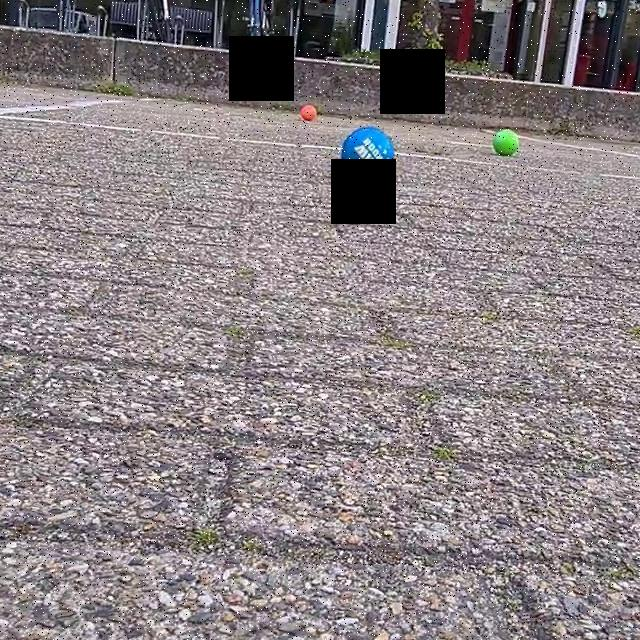ball: (490, 124, 521, 159), (298, 101, 320, 123)
